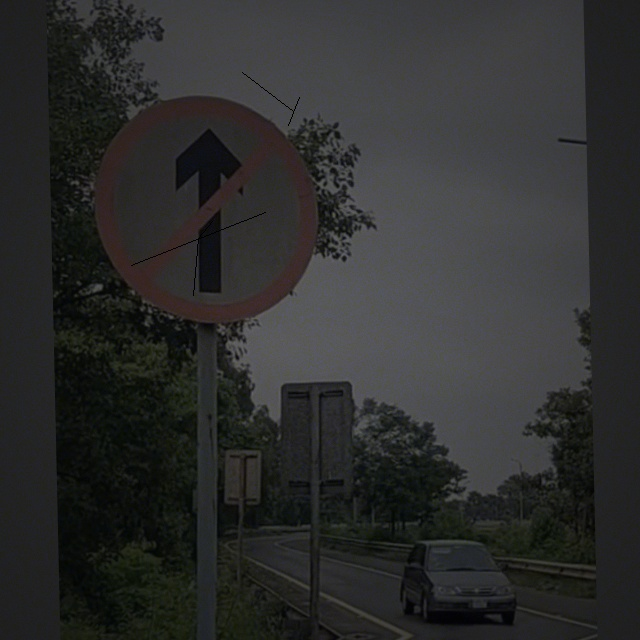No_Entry: (97, 95, 322, 326)
